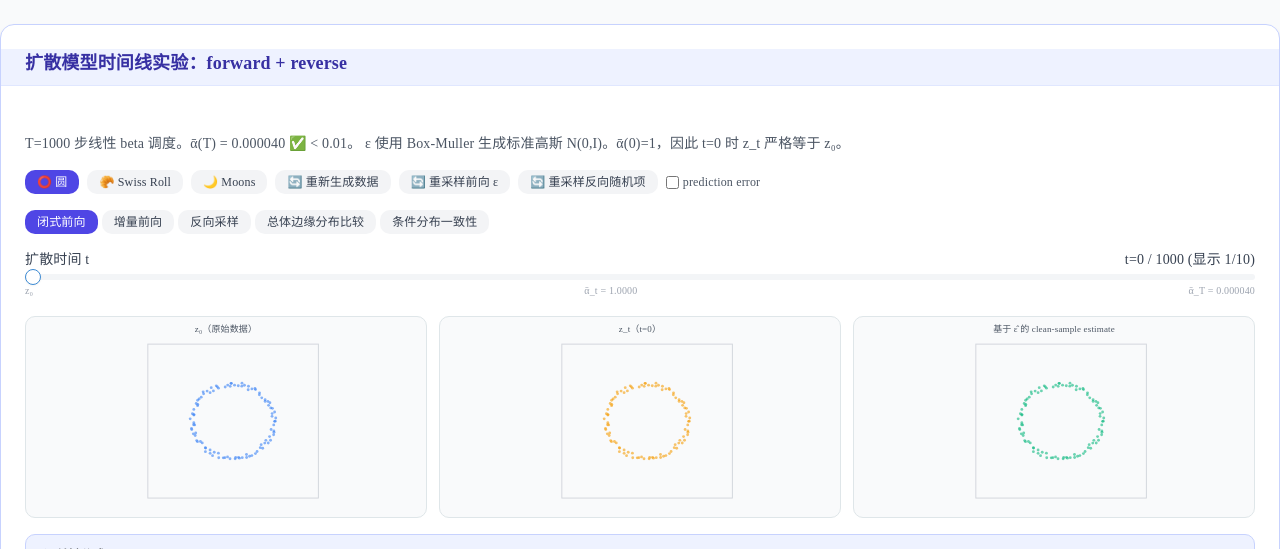
chapter 17 diffusion models teaching-ready loop › makes the closed and incremental forward processes comparable as distributions
What coordinates should you click on to do the following:
click the button "条件分布一致性"
I would click on:
 (435, 222)
Its box is [380,210,489,234].
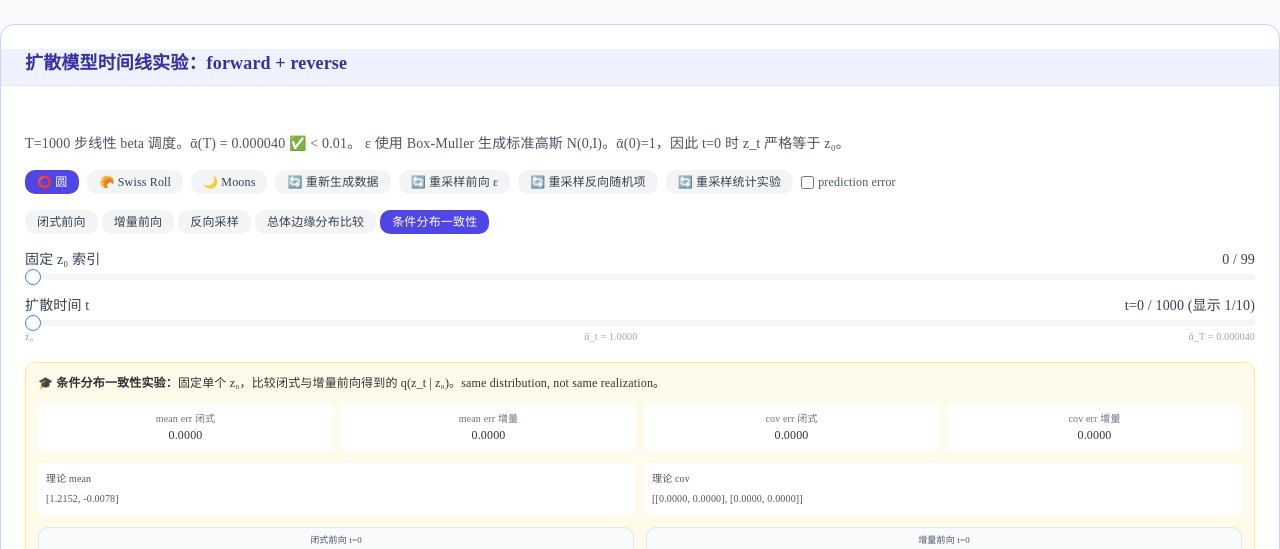
Expected: the text "same distribution, not same realization" is shown, [178,376,665,390]
Expected: the text "mean err 闭式" is shown, [156,413,215,424]
Expected: the text "cov err 增量" is shown, [1068,413,1120,424]
